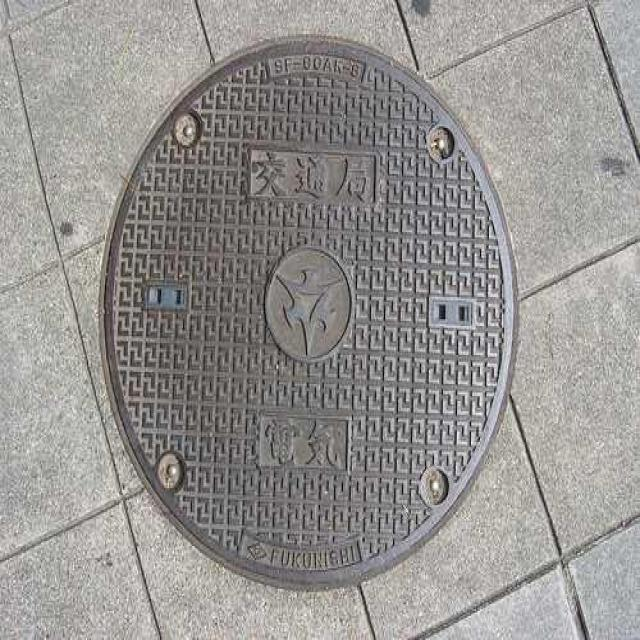manhole: (101, 38, 520, 591)
